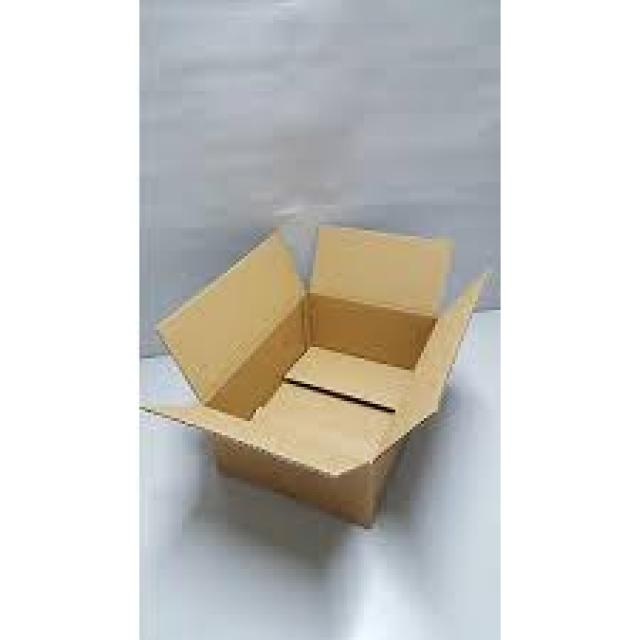cardboard: (140, 222, 487, 529)
